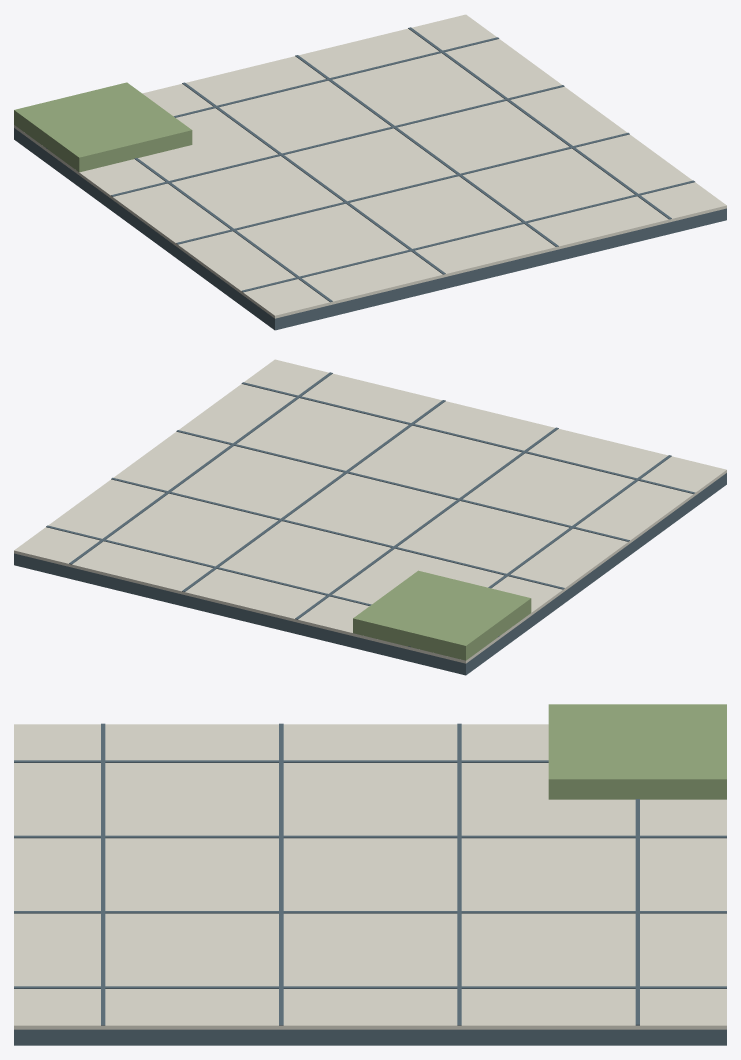
The model's file is voxel-city-districts-sidewalk-corner-696e4a91__24825.glb.
3 views of the same model, one above another, from view 1: azimuth 30°, elevation 25°; view 2: azimuth 150°, elevation 25°; view 3: azimuth 270°, elevation 25° (orthographic). The views are drawn at different scales.
Parts seen in each view (by area): view 1: sidewalk-corner-concrete, sidewalk-corner-dark, sidewalk-corner-green; view 2: sidewalk-corner-concrete, sidewalk-corner-dark, sidewalk-corner-green; view 3: sidewalk-corner-concrete, sidewalk-corner-dark, sidewalk-corner-green.
Part boxes in pixels (x1,y1,x2,y2): sidewalk-corner-concrete: (14,14,726,318); sidewalk-corner-dark: (14,27,726,330); sidewalk-corner-green: (14,82,192,172); sidewalk-corner-concrete: (14,359,726,663); sidewalk-corner-dark: (14,372,726,675); sidewalk-corner-green: (353,570,531,660); sidewalk-corner-concrete: (14,724,726,1029); sidewalk-corner-dark: (14,723,726,1045); sidewalk-corner-green: (548,704,726,799).
Size of the model in its own units: 8 by 0.4999 by 8.
